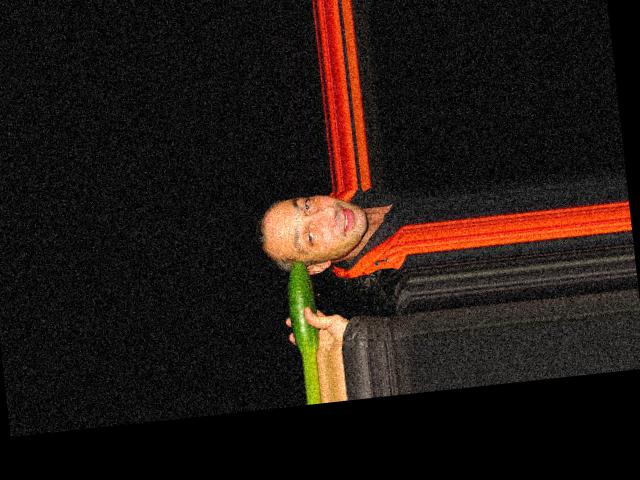cucumber: (284, 259, 320, 355)
